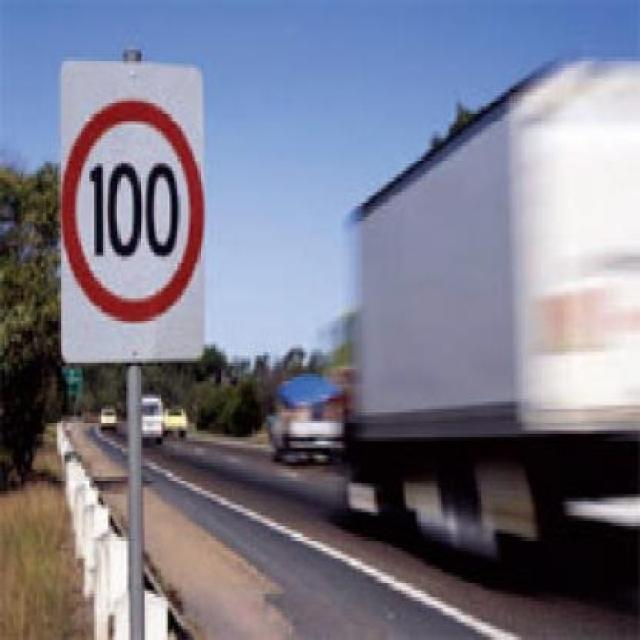forb_speed_over_100: (62, 96, 202, 324)
